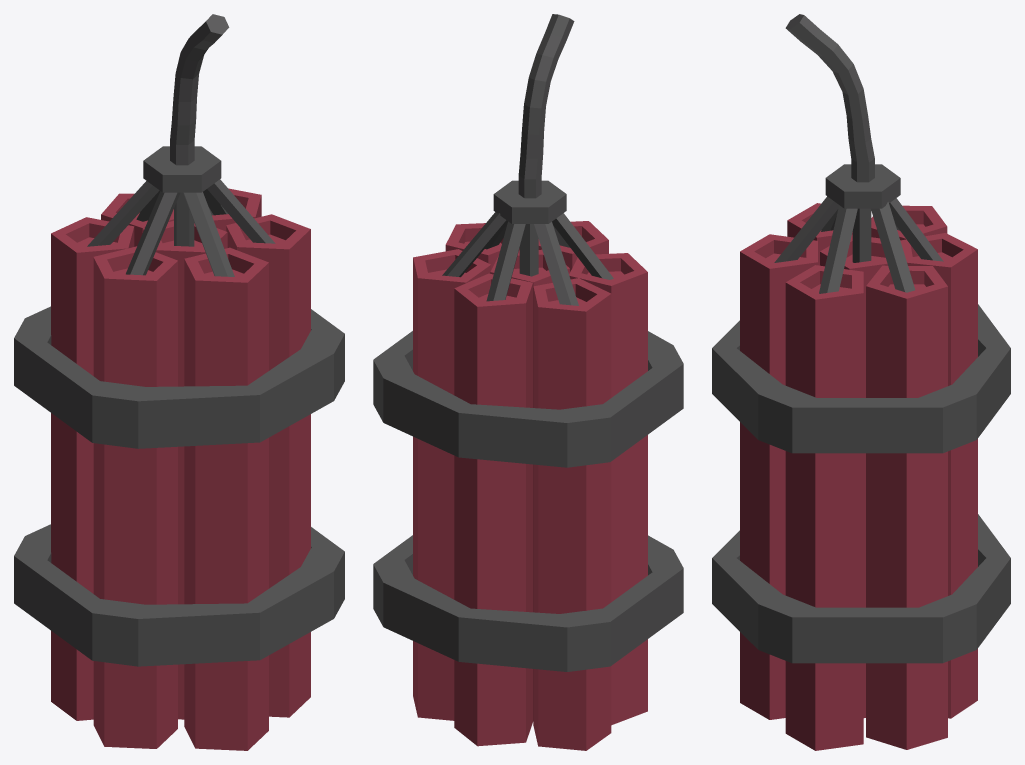
The model's file is Dynamite B-col.glb.
The picture shows the model from 3 angles, left to right: view 1: azimuth 30°, elevation 25°; view 2: azimuth 150°, elevation 25°; view 3: azimuth 270°, elevation 25°; orthographic projection. The views are drawn at different scales.
Visible parts, largest first — view 1: Dynamite B-col; view 2: Dynamite B-col; view 3: Dynamite B-col.
Part boxes in pixels (bbox=[...]): Dynamite B-col: bbox=[14, 14, 344, 750]; Dynamite B-col: bbox=[373, 14, 683, 750]; Dynamite B-col: bbox=[712, 14, 1010, 750].
Bounding box in the file's own units: 0.1876 × 0.5055 × 0.1993.
